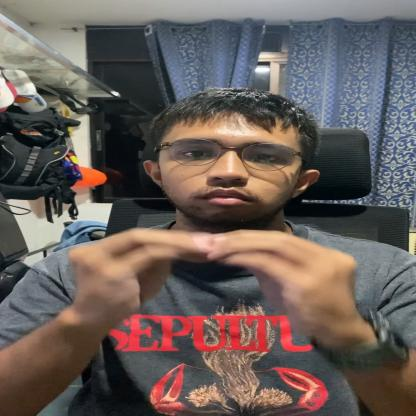Fix: (28, 212, 368, 352)
